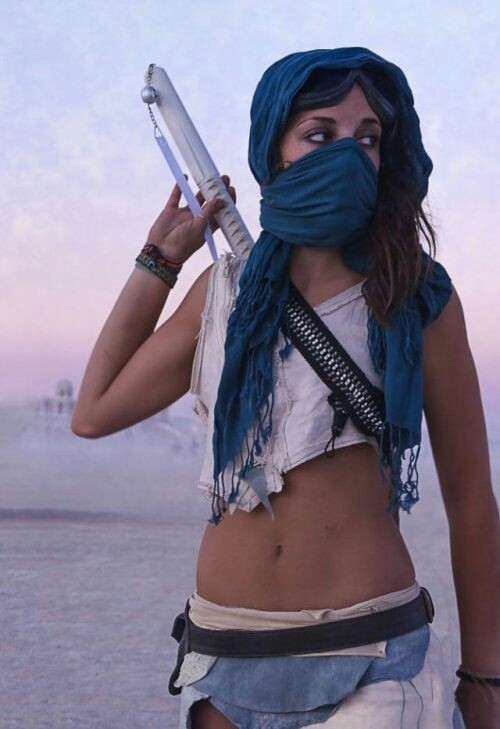face_with_mask: (269, 60, 390, 233)
